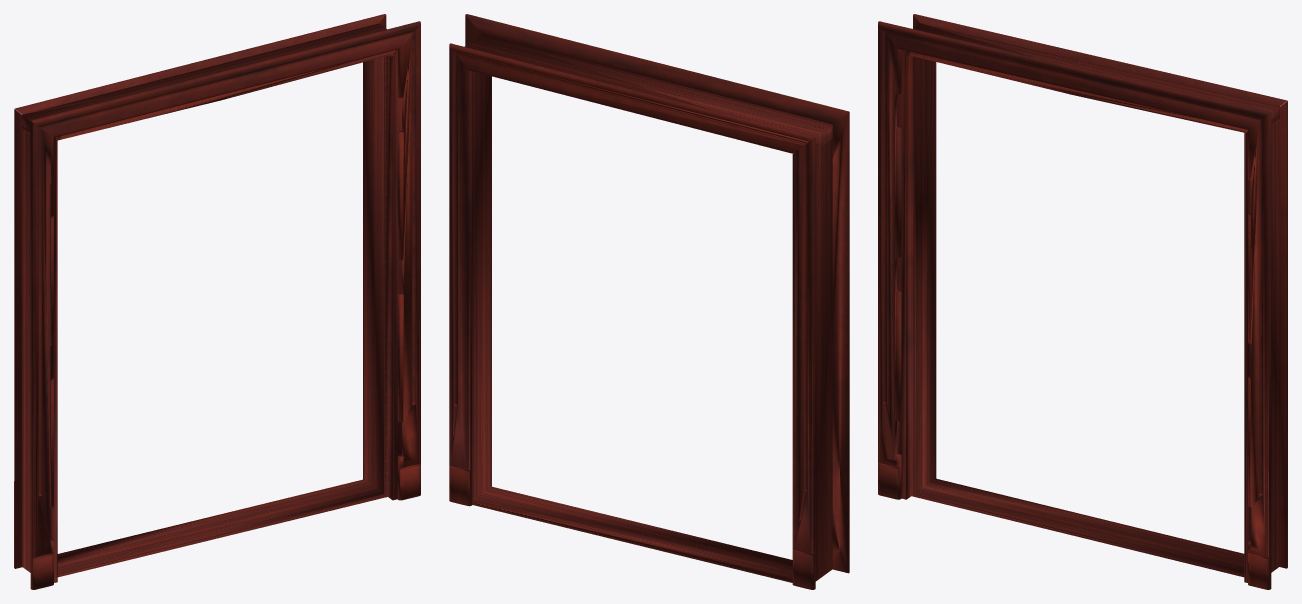
File: MarcoPuerta.obj
3 renders of one model, left to right at view 1: azimuth 30°, elevation 25°; view 2: azimuth 150°, elevation 25°; view 3: azimuth 330°, elevation 25°, orthographic. The views are drawn at different scales.
Visible parts, largest first — view 1: Entrance_Door_004; view 2: Entrance_Door_004; view 3: Entrance_Door_004.
Boxes of the visible parts, x1,y1,x2,y2 form: Entrance_Door_004: (14,14,420,589); Entrance_Door_004: (449,14,849,589); Entrance_Door_004: (878,14,1287,589).
Bounding box in the file's own units: 11.45 × 13.29 × 1.46.
Materials: 1 (1 with a texture image).
